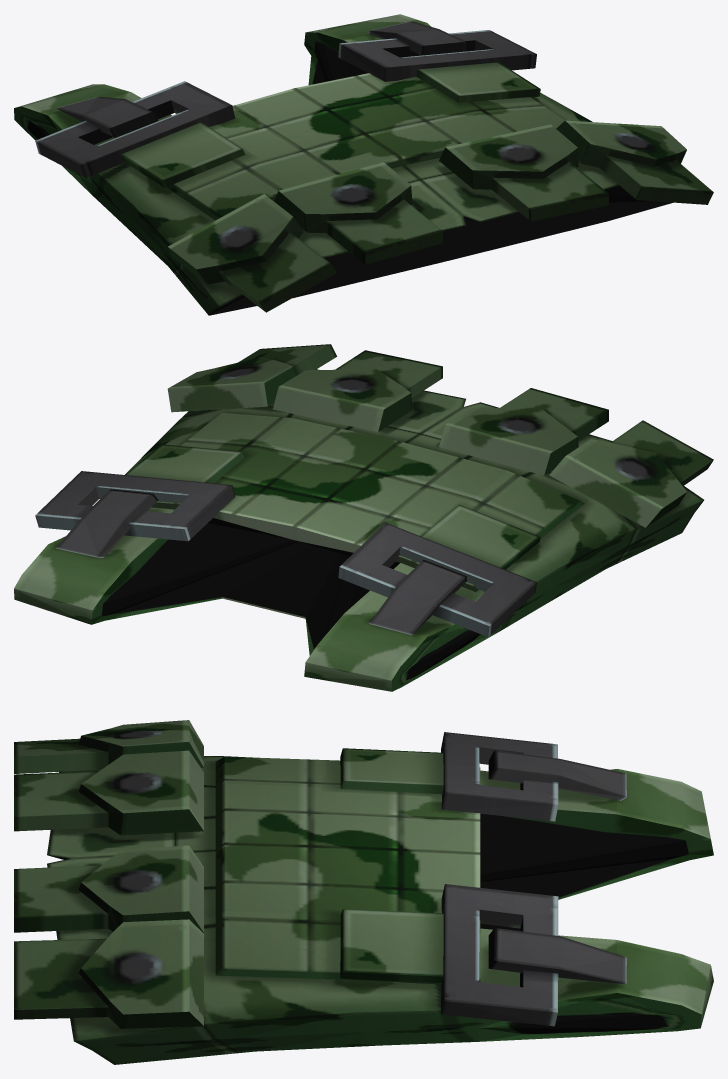
The model's file is Equipment_Armor_Item_1_Mod.FBX.
3 views of the same model, one above another, from view 1: azimuth 30°, elevation 25°; view 2: azimuth 150°, elevation 25°; view 3: azimuth 270°, elevation 25° (orthographic). The views are drawn at different scales.
Visible parts, largest first — view 1: Equipment_Armor_Item_1; view 2: Equipment_Armor_Item_1; view 3: Equipment_Armor_Item_1.
Part boxes in pixels (x1,y1,x2,y2): Equipment_Armor_Item_1: [14, 14, 713, 315]; Equipment_Armor_Item_1: [14, 344, 713, 691]; Equipment_Armor_Item_1: [14, 720, 713, 1064].
Bounding box in the file's own units: 52.73 × 8.83 × 53.47.
